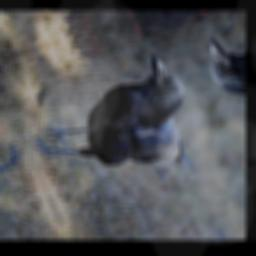Crow: (14, 50, 220, 210)
